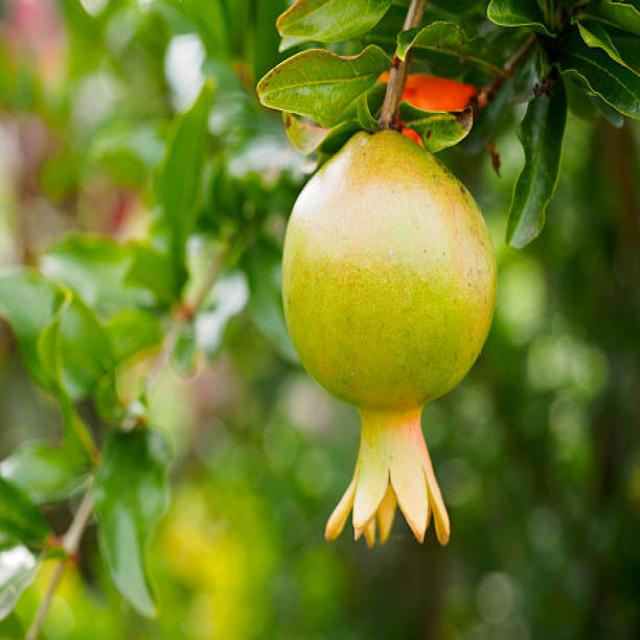Unripe: (284, 124, 500, 548)
